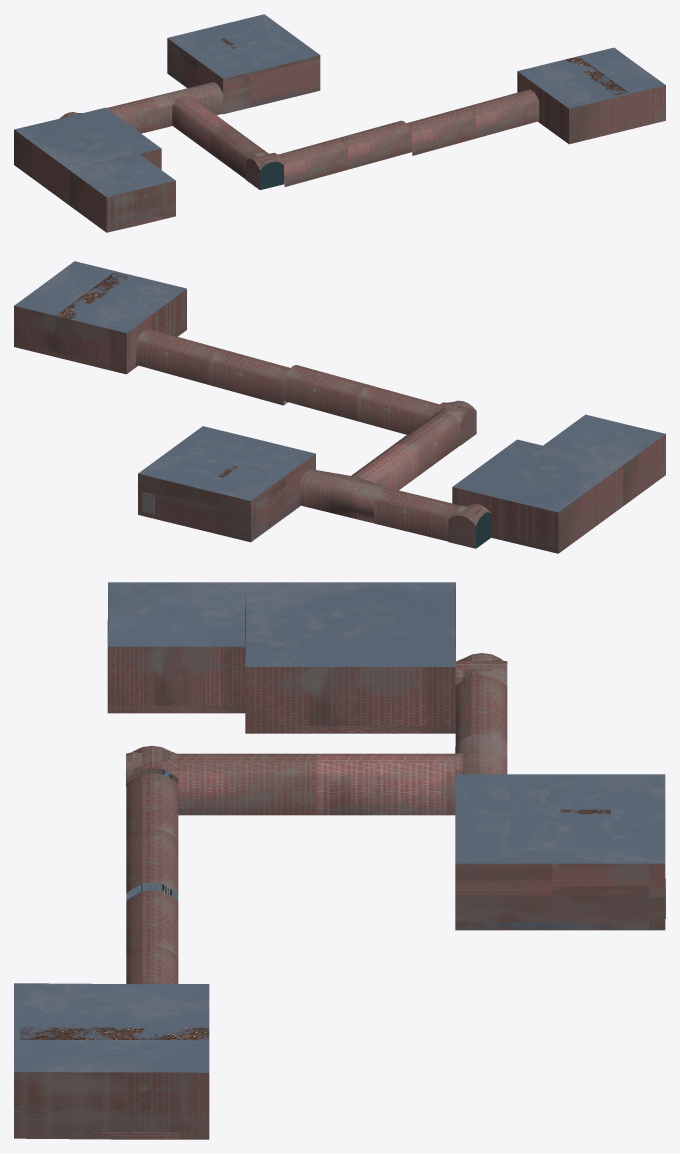
The model's file is room 4.fbx.
3 views of the same model, one above another, from view 1: azimuth 30°, elevation 25°; view 2: azimuth 150°, elevation 25°; view 3: azimuth 270°, elevation 25° (orthographic). The views are drawn at different scales.
Visible parts, largest first — view 1: base.010, base.009, brick.001, brick.004, brick.003, brick.025, brick.023, brick.027, base.006, brick.005, brick.006, brick.024; view 2: base.010, base.009, brick.001, brick.027, brick.004, brick.003, brick.023, brick.024, base.006, brick.005, brick.025, brick.026 (+1 smaller); view 3: base.010, brick.027, base.009, brick.001, brick.023, brick.025, brick.005, base.006, brick.003, brick.004, brick.024, brick.006 (+1 smaller).
Part boxes in pixels (x1,y1,x2,y2): base.010: (14,14,665,197); base.009: (167,38,320,114); brick.001: (517,71,665,144); brick.004: (406,89,539,155); brick.003: (278,120,411,186); brick.025: (70,170,175,232); brick.023: (150,82,231,152); brick.027: (14,130,161,205); base.006: (167,29,319,113); brick.005: (209,124,268,179); brick.006: (246,151,283,189); brick.024: (106,97,158,133); base.010: (14,261,665,512); base.009: (138,454,315,541); brick.001: (14,289,186,374); brick.027: (452,465,623,553); brick.004: (136,328,290,405); brick.003: (283,365,439,434); brick.023: (299,443,417,523); brick.024: (374,487,458,541); base.006: (139,443,300,542); brick.005: (391,412,460,476); brick.025: (623,434,665,505); brick.026: (448,503,491,548); base.010: (14,582,665,1072); brick.027: (245,588,455,733); base.009: (455,863,665,930); brick.001: (14,1072,209,1139); brick.023: (316,733,507,815); brick.025: (107,596,245,713); brick.005: (178,753,316,815); base.006: (455,790,664,930); brick.003: (126,773,178,900); brick.004: (126,890,178,983); brick.024: (455,675,507,743); brick.006: (126,745,178,785).
Size of the model in its own units: 217 by 14.79 by 122.
